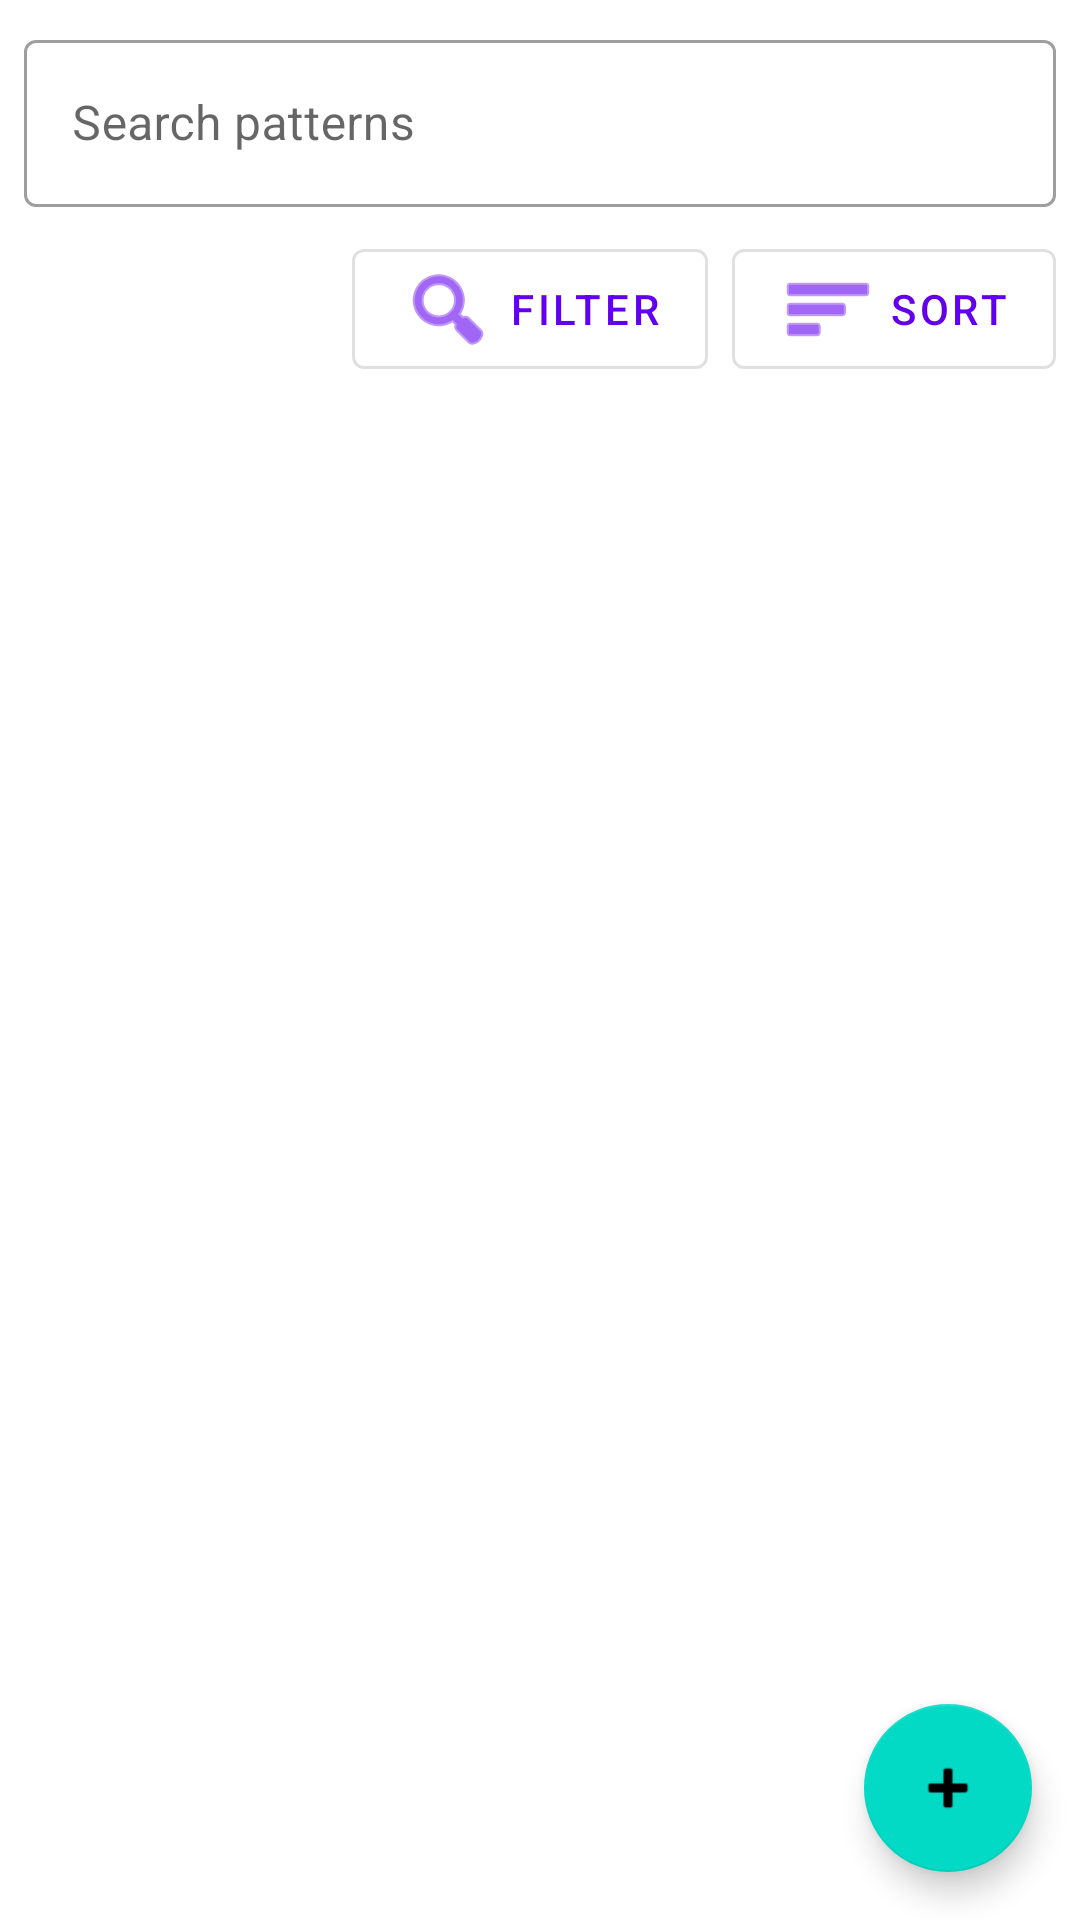

Where to tap for icons on this 1080w x 1920h app screen, as [x,y]:
Add new pattern: [948,1788]
